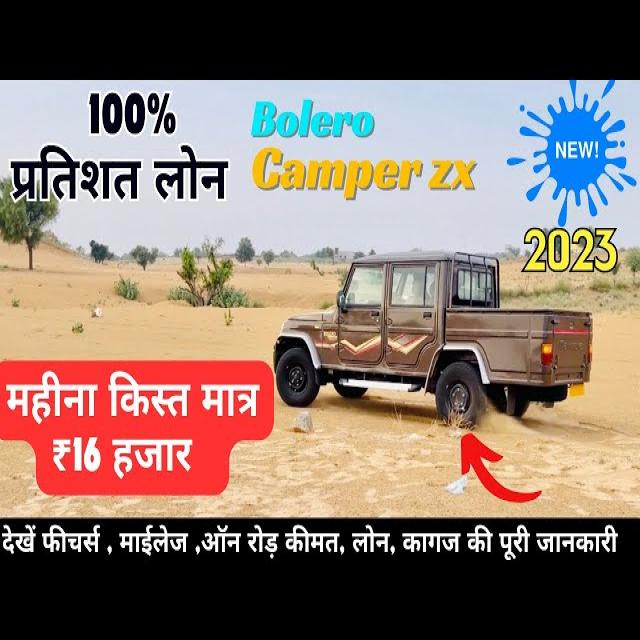light_vehicle: (268, 256, 596, 424)
